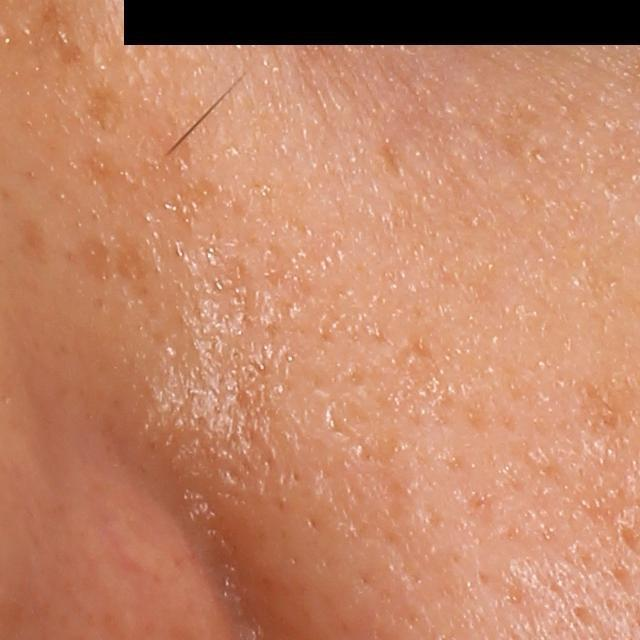melasma: (571, 376, 639, 448), (29, 0, 89, 66), (115, 227, 161, 280), (87, 80, 125, 132)
